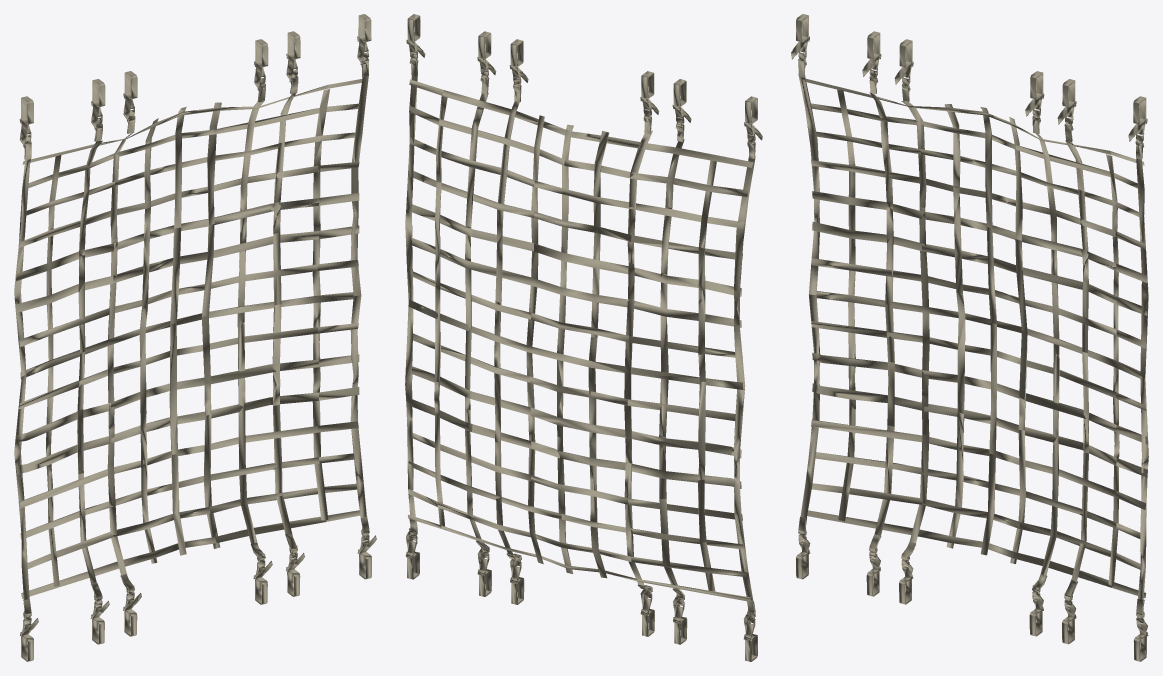
Rendered from roomlg_addon_net_c.glb.
The picture shows the model from 3 angles, left to right: view 1: azimuth 30°, elevation 25°; view 2: azimuth 150°, elevation 25°; view 3: azimuth 330°, elevation 25°; orthographic projection.
Bounding box in the file's own units: 5.57 × 8.36 × 0.762.
